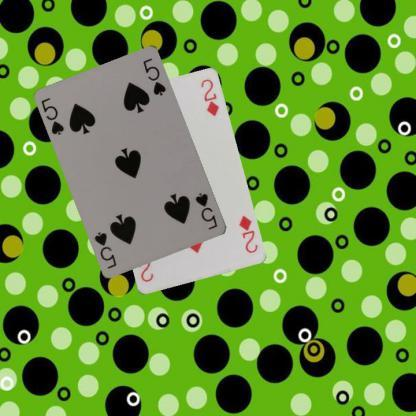2d: (236, 212, 259, 254)
5s: (39, 95, 66, 137), (193, 190, 219, 231)
